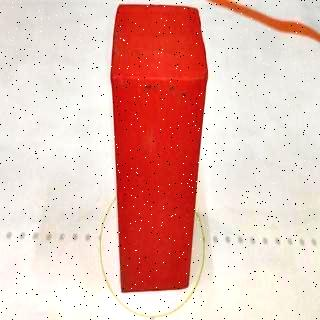redbox: (108, 2, 208, 292)
